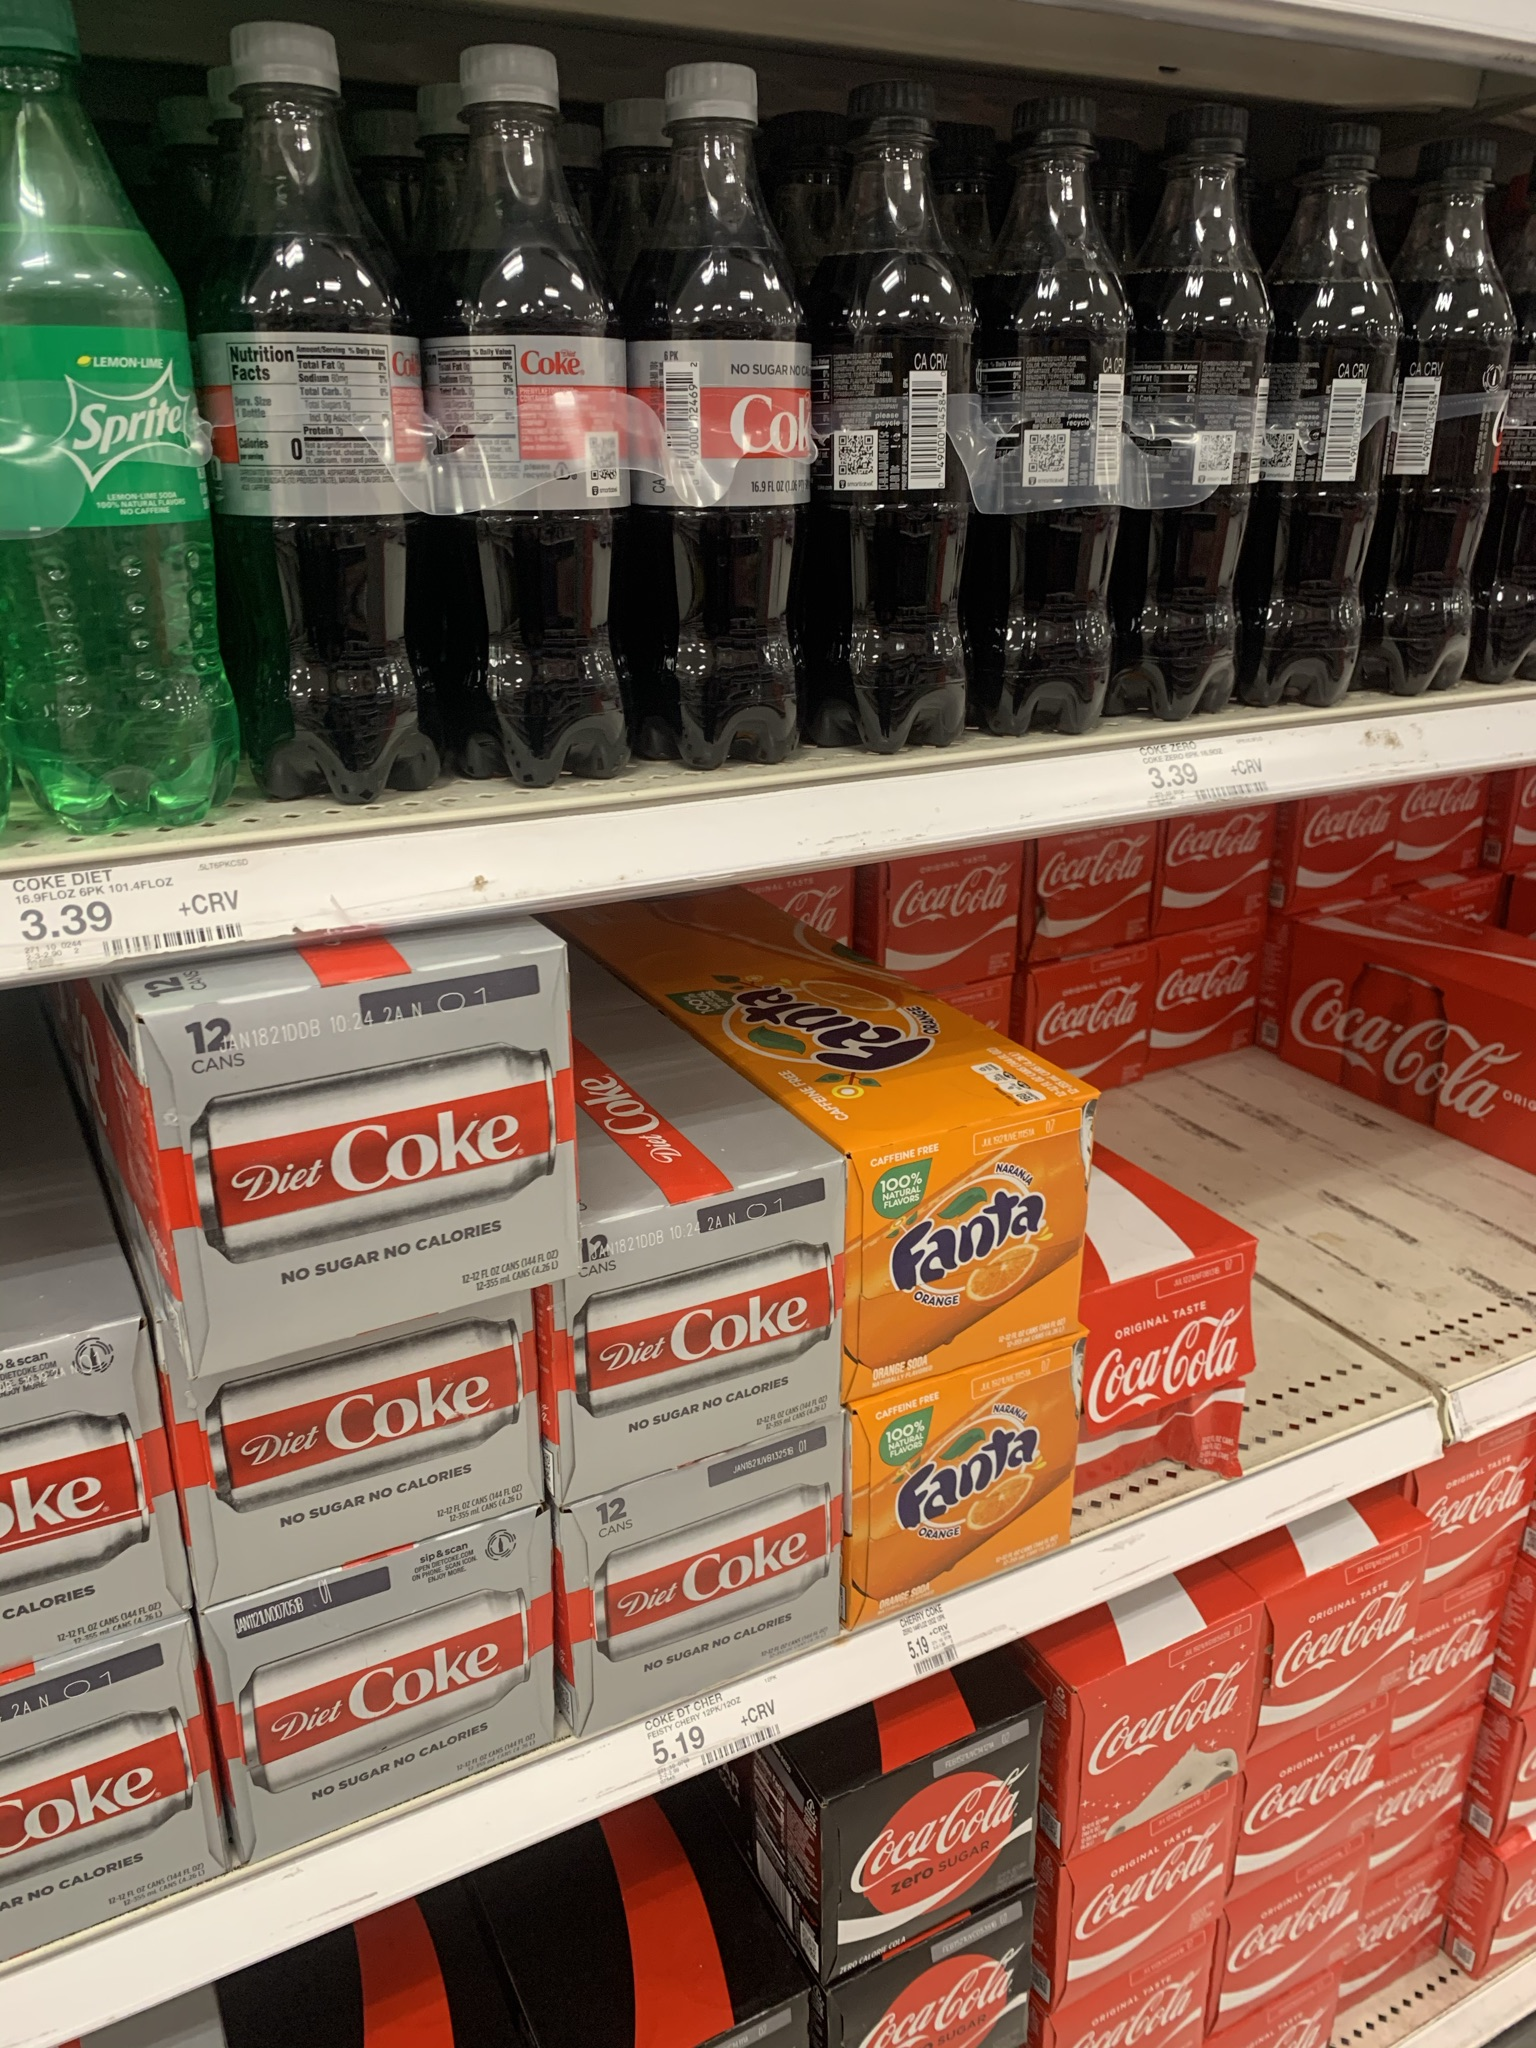box: (173, 976, 566, 1279), (586, 1192, 836, 1409), (858, 1105, 1073, 1334), (229, 1605, 549, 1742), (2, 1343, 163, 1614), (6, 1672, 189, 1896), (860, 1372, 1066, 1558), (582, 1500, 839, 1637), (1091, 1251, 1249, 1471), (810, 1753, 1028, 1901), (1078, 1650, 1238, 1813), (1281, 1571, 1418, 1687), (897, 868, 1016, 974), (1055, 1854, 1220, 1919), (1042, 853, 1149, 948), (1246, 1882, 1350, 1972), (1163, 830, 1270, 919), (1299, 808, 1394, 901), (1165, 951, 1254, 1047), (1057, 972, 1146, 1066), (1441, 1447, 1521, 1546), (1257, 1763, 1383, 1816)
